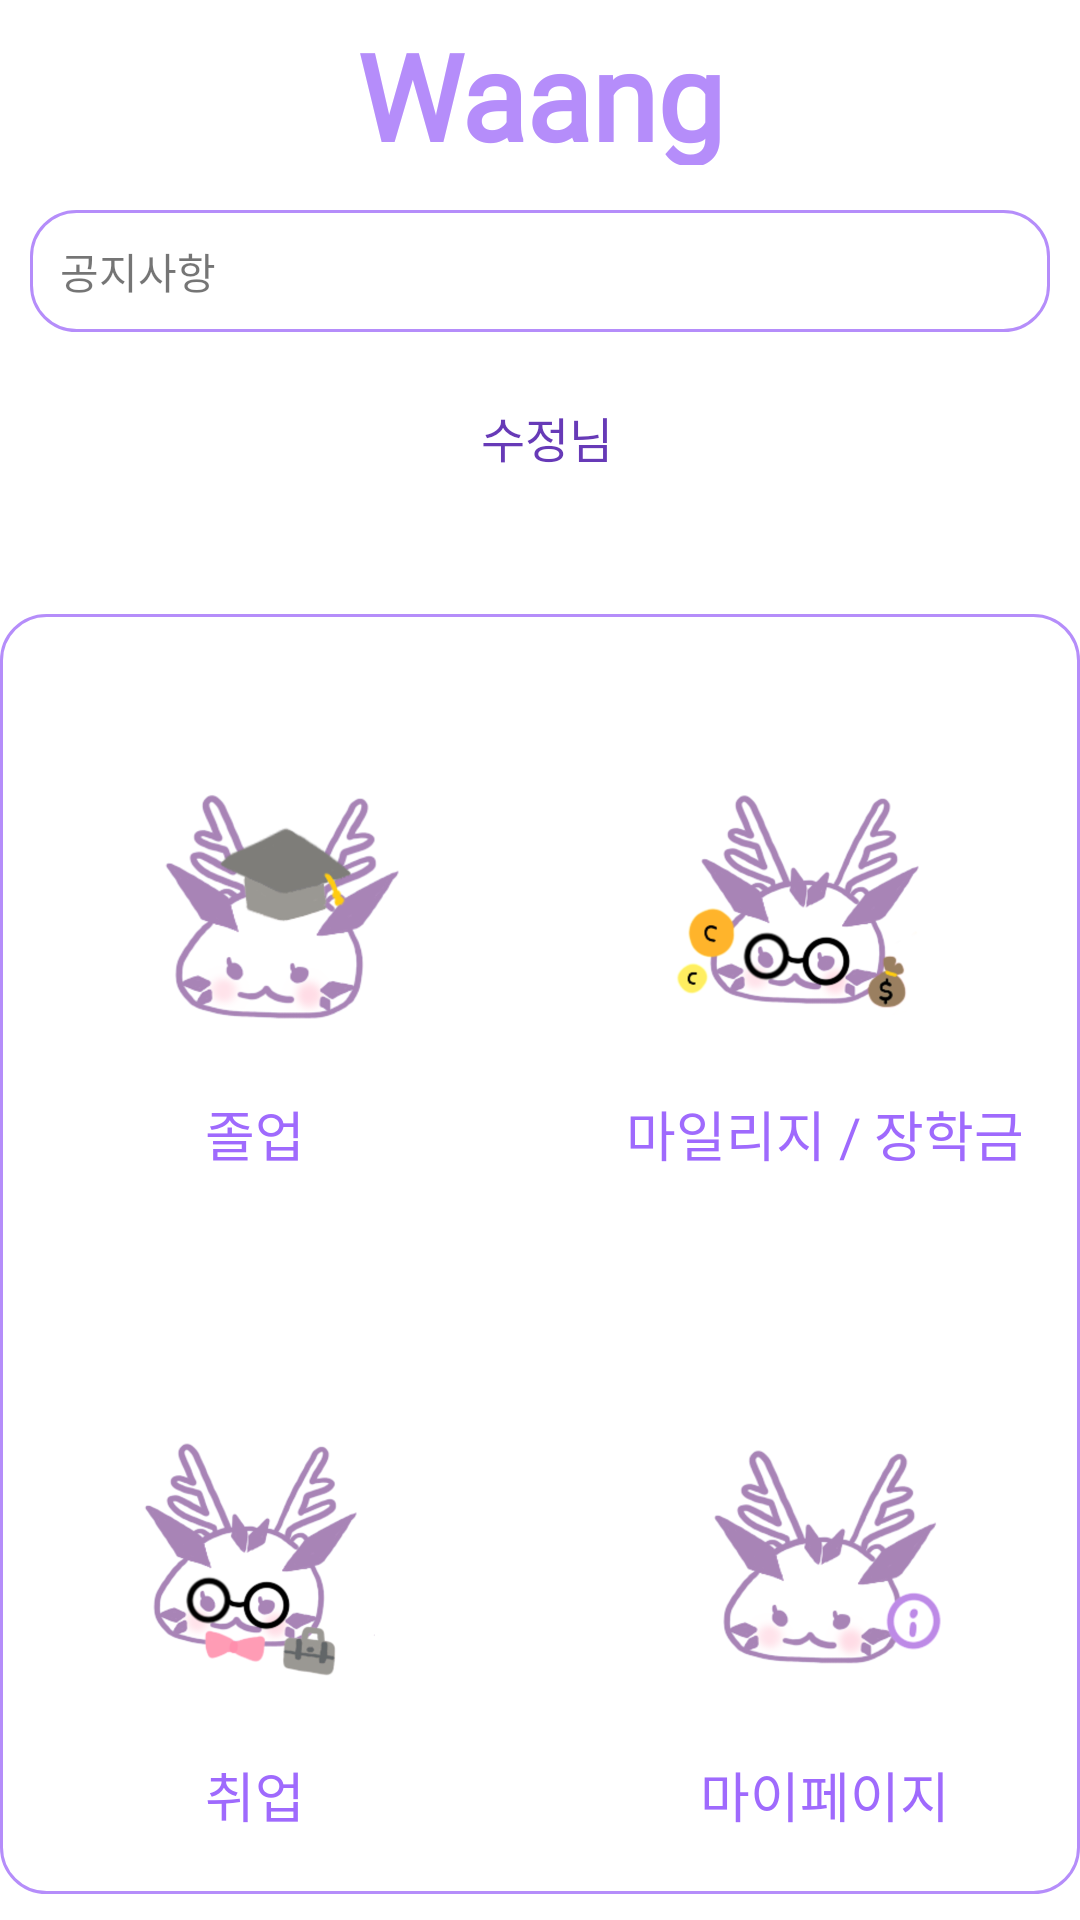

Screen size 1080px x 1920px. Icon name, then its center in pixels as (x=x, y=y):
grads: (x=282, y=907)
infos: (x=827, y=1556)
jobs: (x=251, y=1559)
moneys: (x=798, y=901)
